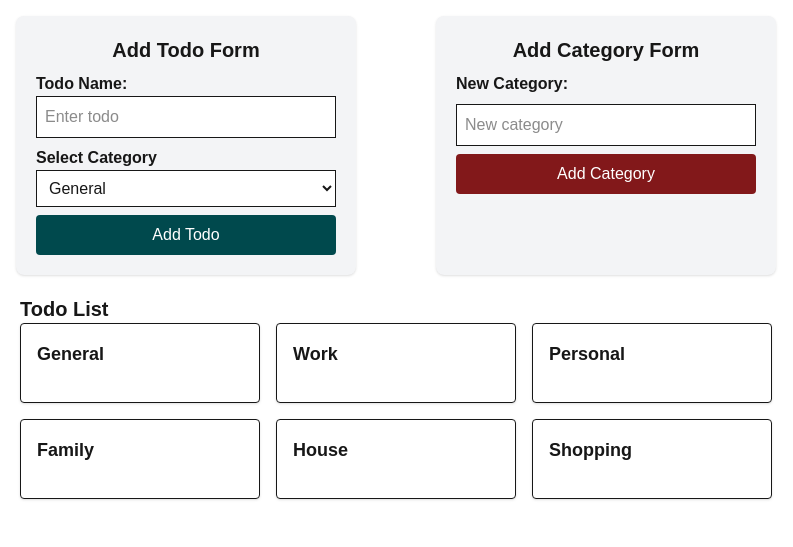
Todo Component › should delete a todo from the Todo List
Type "Test" into the field labelled "Todo Name:".
click(186, 117); type("Test")  # box [36,96,336,138]
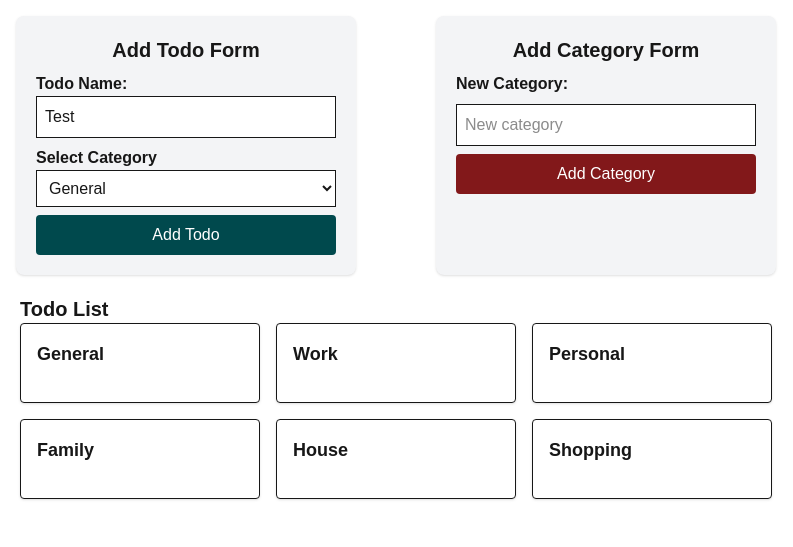
Select "Personal" in the dropdown at (186, 188), box [36,170,336,207]
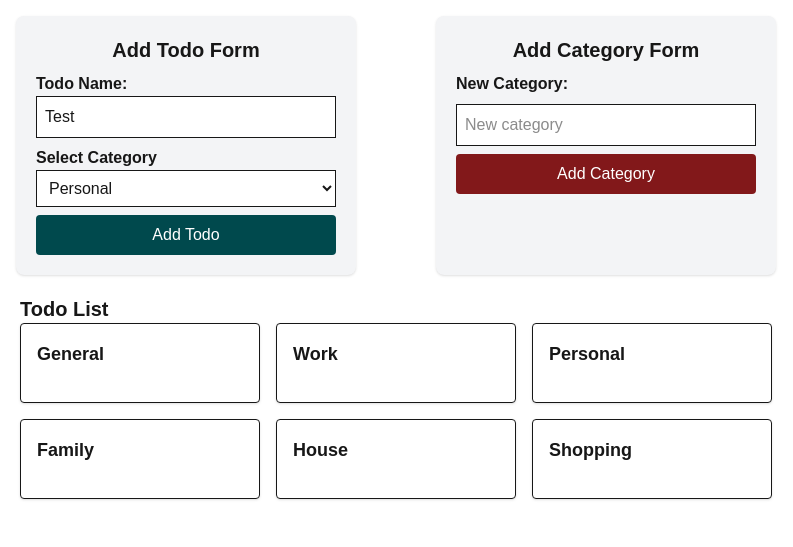
Click the button "Add Todo".
click(186, 235)  # box [36,215,336,255]
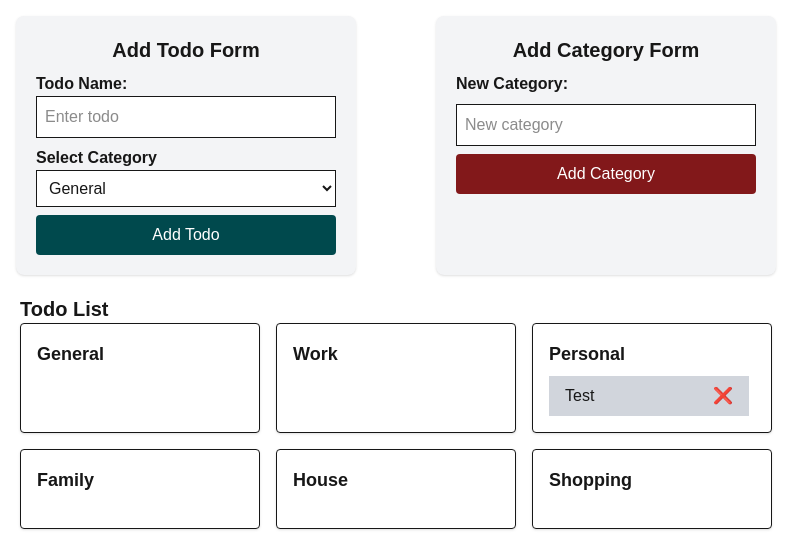
Check: the text "Test" is shown, box [565,384,594,408]
Click the button named "delete".
click(723, 396)  # box [713,384,733,408]
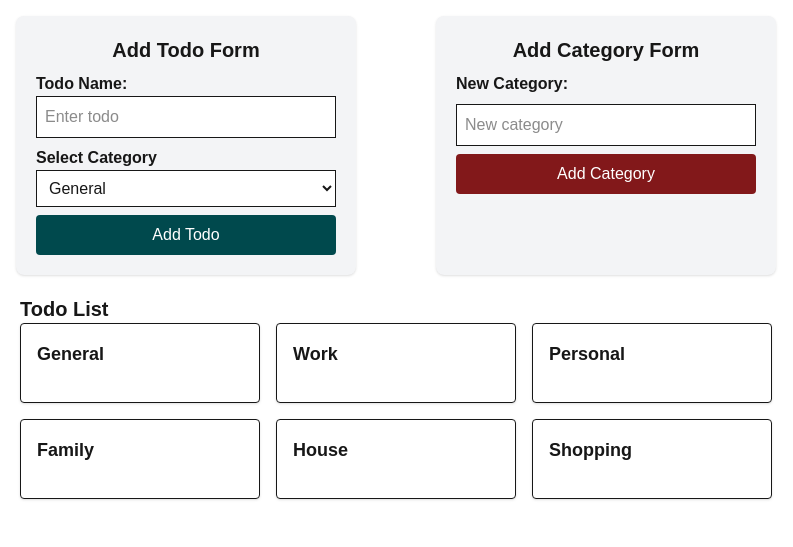
Check: the text "Test" is gone
